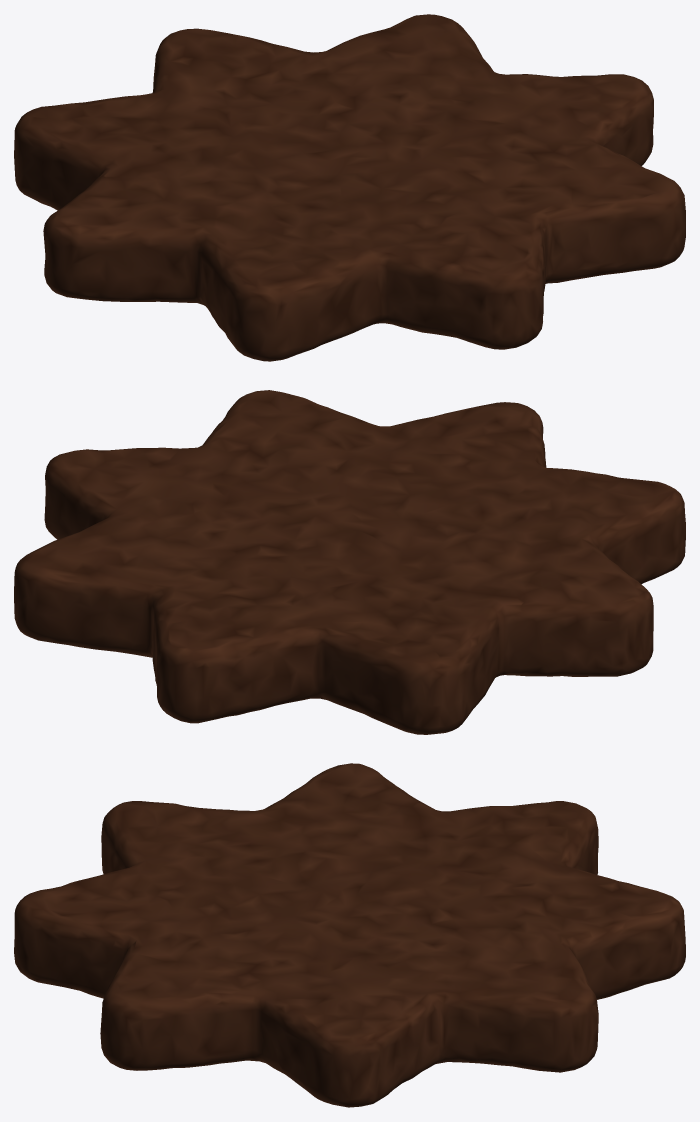
Rendered from stern-schoko.glb.
3 renders of one model, top to bottom at view 1: azimuth 30°, elevation 25°; view 2: azimuth 150°, elevation 25°; view 3: azimuth 270°, elevation 25°, orthographic. The views are drawn at different scales.
Visible parts, largest first — view 1: cookie; view 2: cookie; view 3: cookie.
Boxes of the visible parts, x1=… form: cookie: x1=14, y1=14, x2=685, y2=361; cookie: x1=14, y1=390, x2=685, y2=734; cookie: x1=14, y1=763, x2=685, y2=1107.
Bounding box in the file's own units: 0.0786 × 0.00972 × 0.0788.
